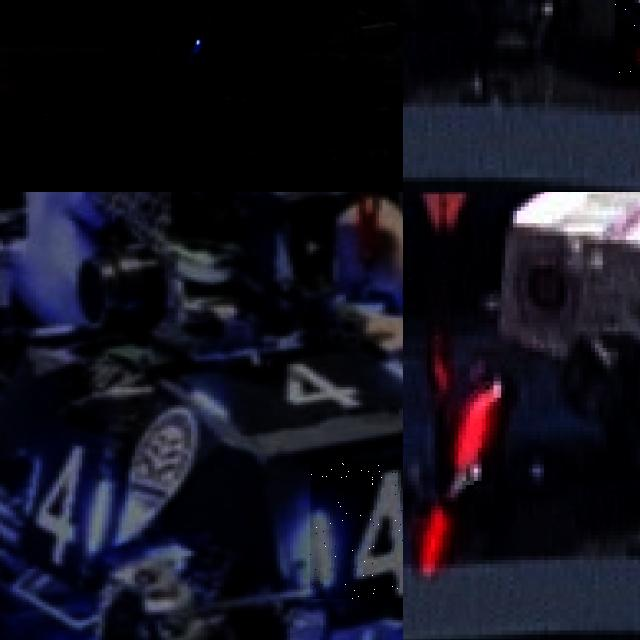B4: (310, 461, 403, 599), (19, 436, 112, 566)
